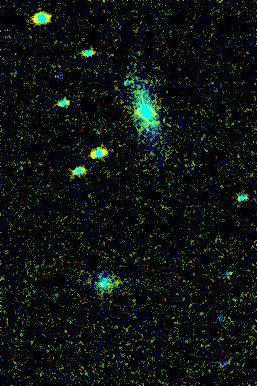star: (139, 106, 169, 136)
